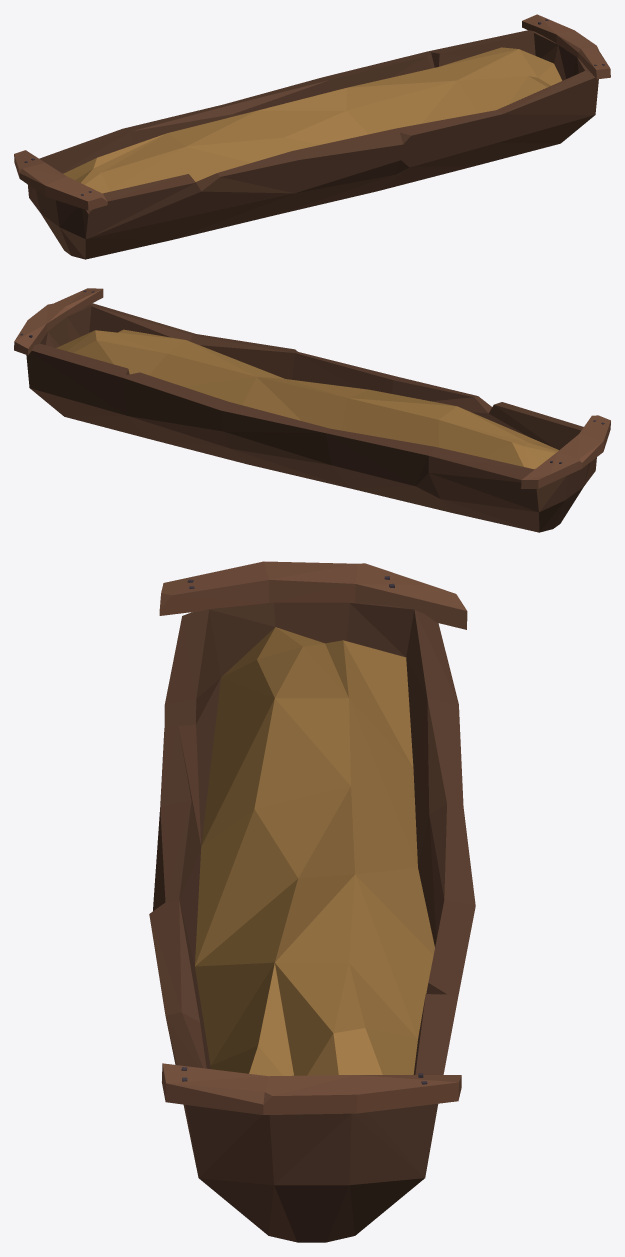
File: Trough_Hay.fbx
3 views of the same model, one above another, from view 1: azimuth 30°, elevation 25°; view 2: azimuth 150°, elevation 25°; view 3: azimuth 270°, elevation 25° (orthographic). The views are drawn at different scales.
Parts seen in each view (by area): view 1: Trough_Hay; view 2: Trough_Hay; view 3: Trough_Hay.
Part boxes in pixels (x1,y1,x2,y2): Trough_Hay: (14,14,610,259); Trough_Hay: (14,288,610,532); Trough_Hay: (149,561,475,1242).
Size of the model in its own units: 3.2 by 0.4989 by 0.8139.
